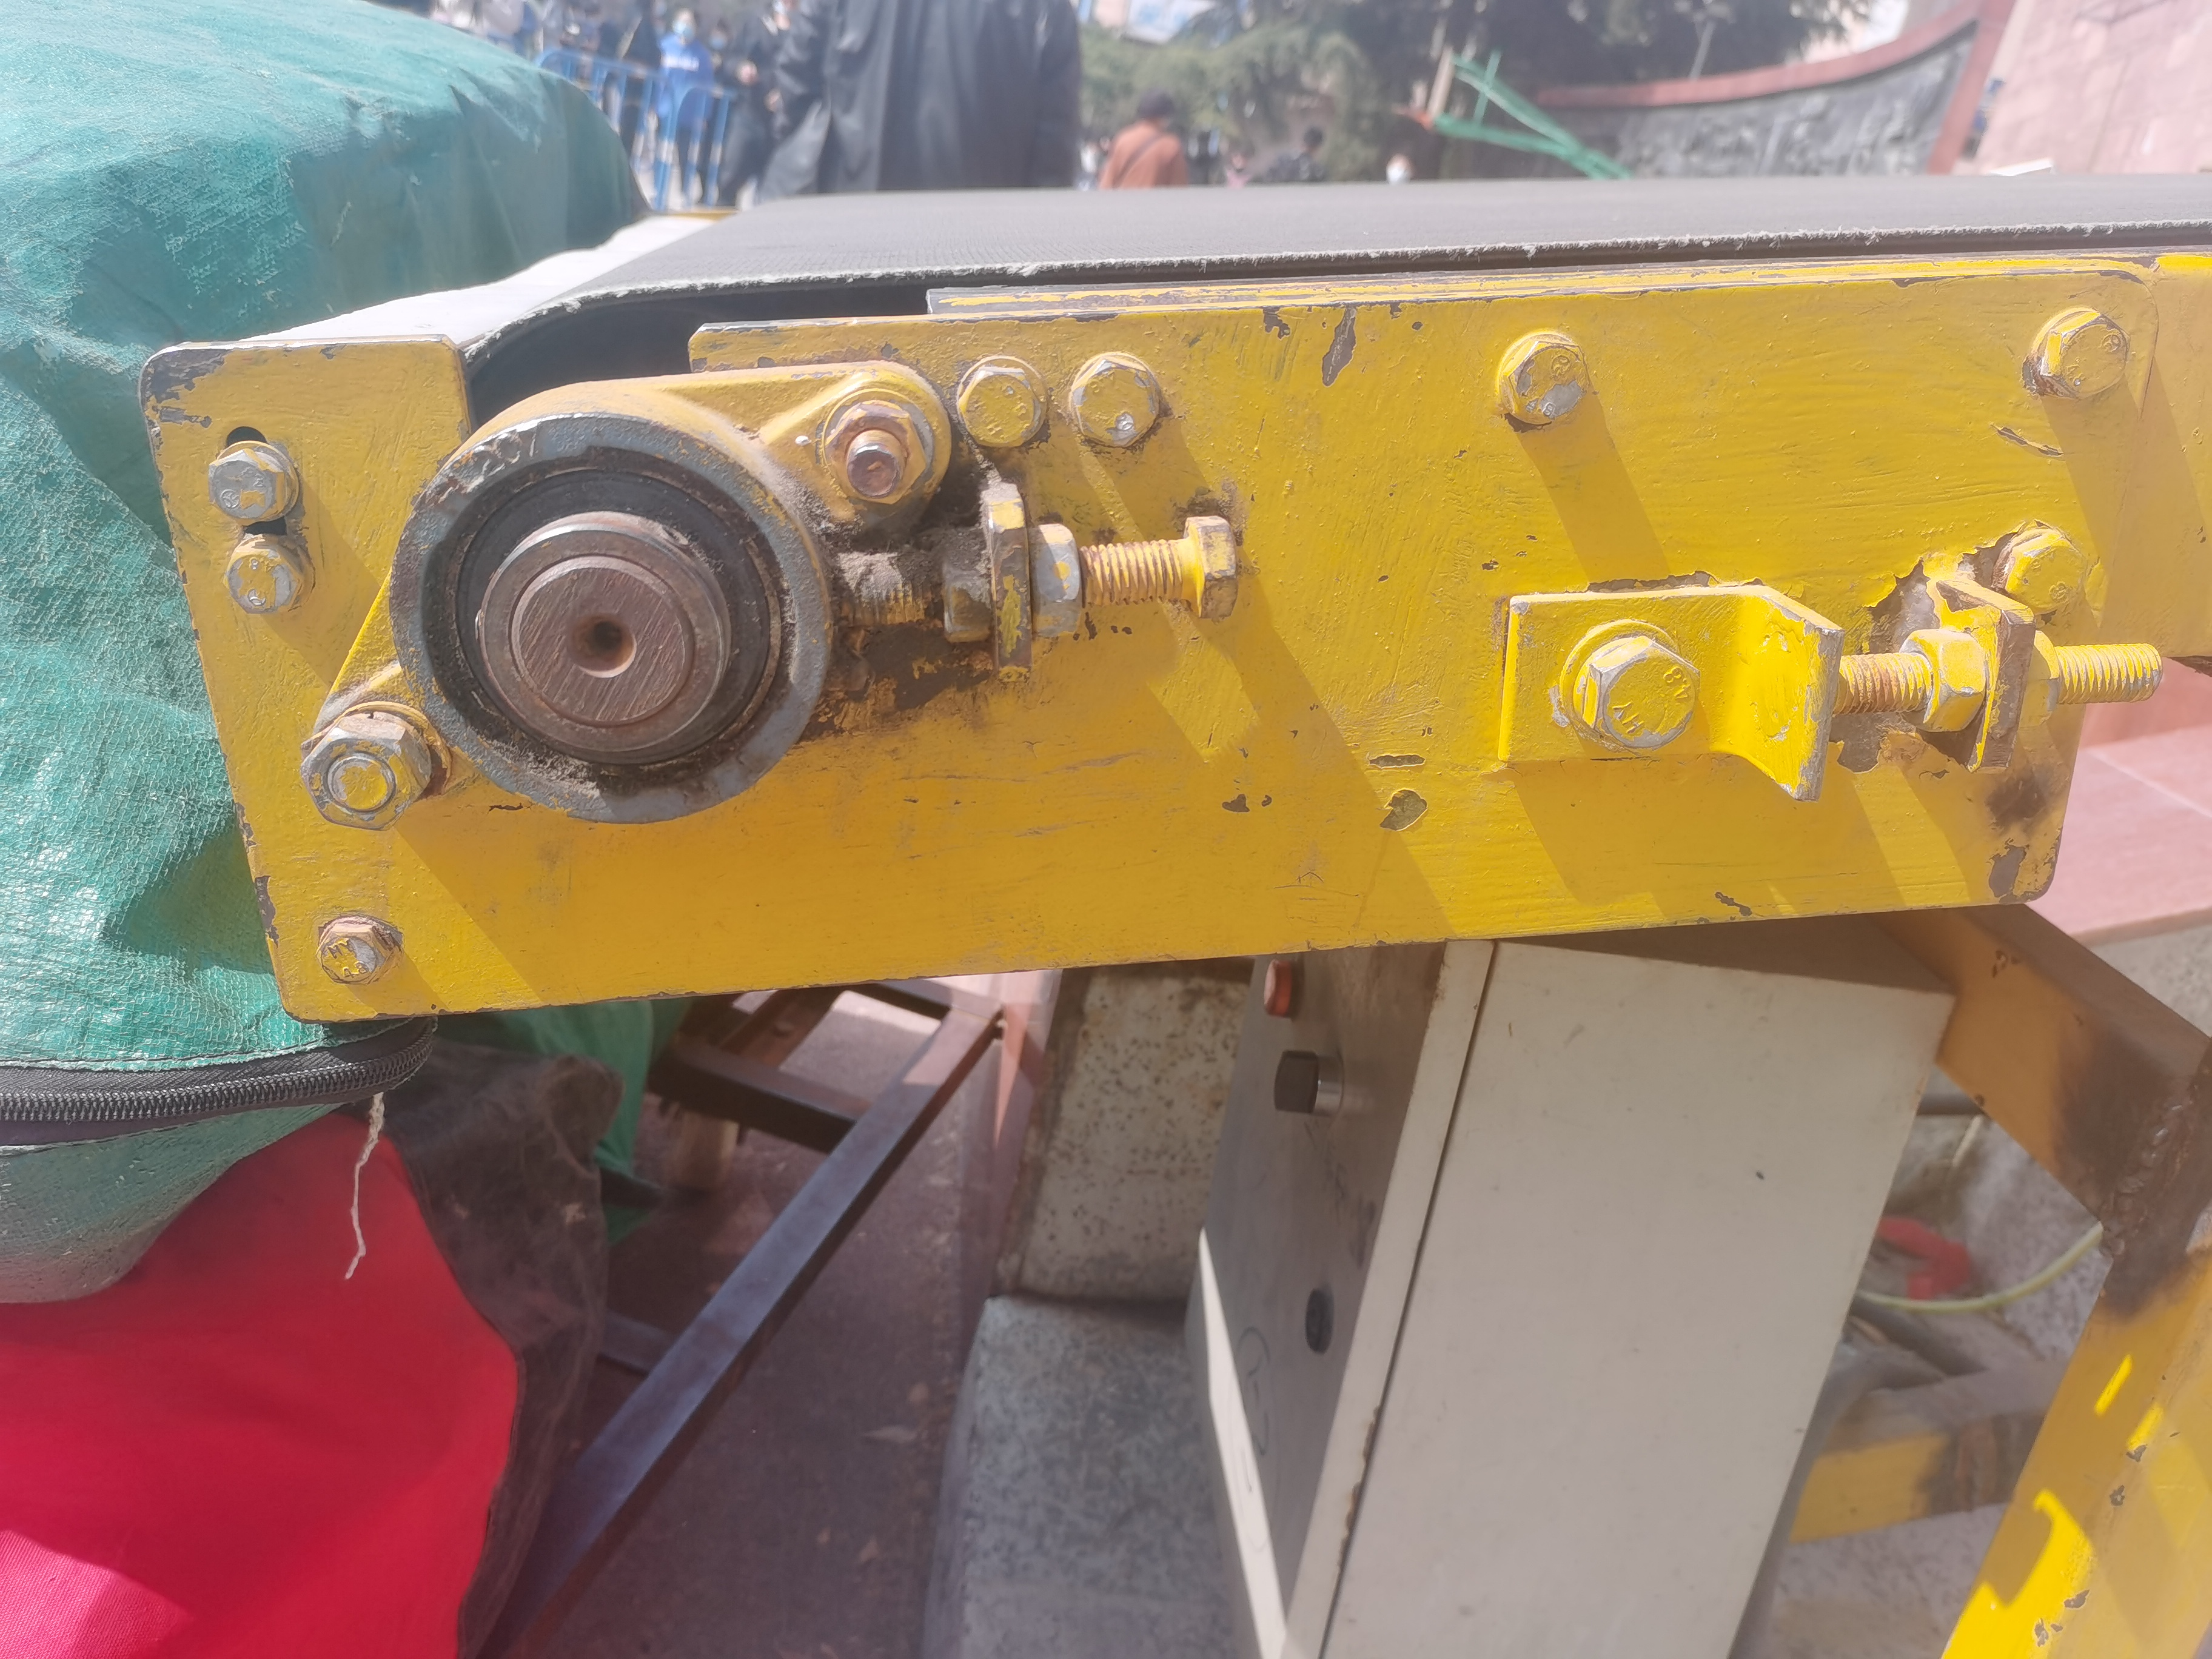bolt_a: (1580, 631, 1703, 762), (1064, 354, 1162, 451), (2038, 307, 2135, 404), (1496, 333, 1595, 427), (1994, 525, 2092, 619), (953, 362, 1049, 451), (207, 446, 289, 530), (219, 542, 308, 617), (314, 920, 394, 988)
bolt_b: (298, 711, 435, 833), (817, 399, 932, 507), (1888, 626, 1989, 737)
bolt_c: (934, 528, 996, 648), (1026, 521, 1087, 641), (1176, 512, 1240, 622), (2006, 626, 2062, 737)
